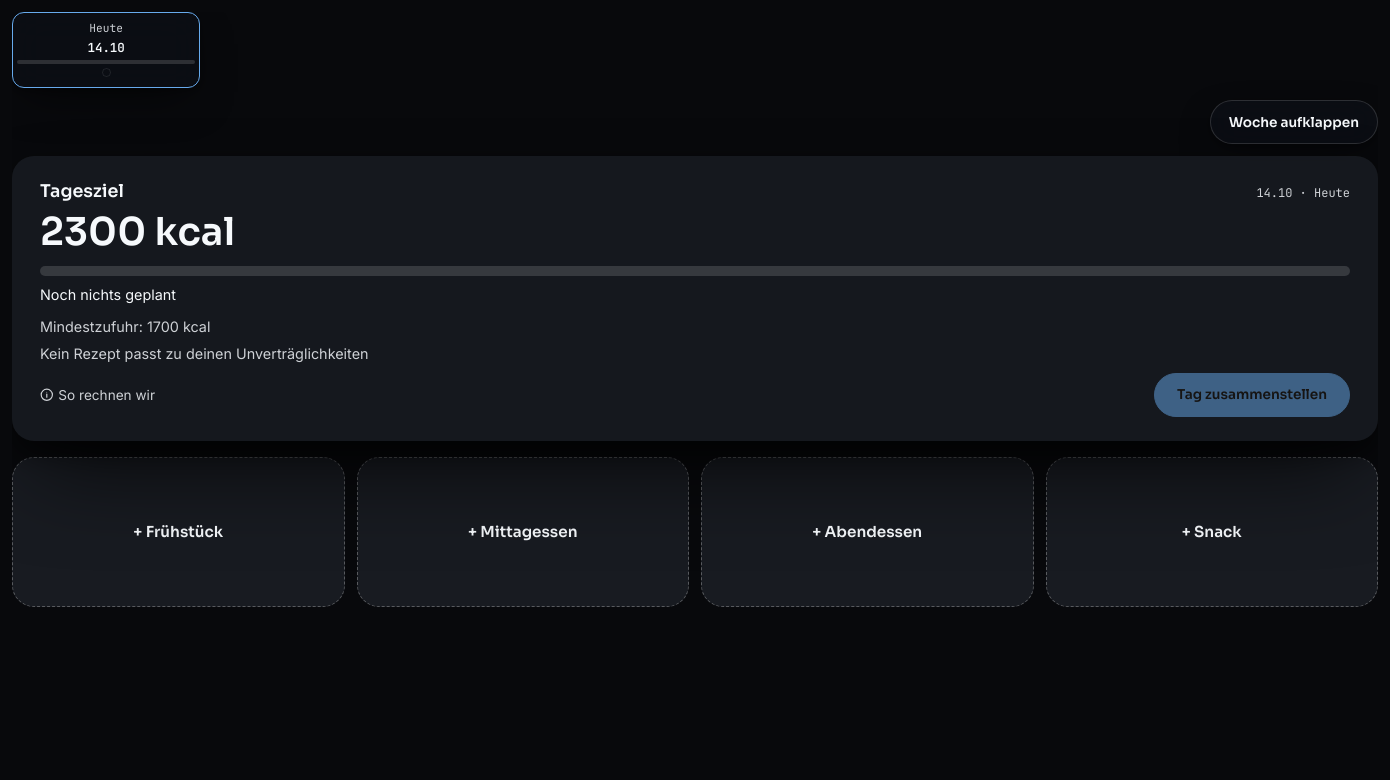
WeekView — wenige oder keine Kandidaten › kein Rezept passt zu den Unverträglichkeiten: Hinweis, Knopf gesperrt, kein Absturz
Expected: the text "Kein Rezept passt zu deinen Unverträglichkeiten" is shown, [40,345,368,362]
Expected: the button "Tag zusammenstellen" is disabled, [1154,373,1350,417]
Click the button with aria-label "Frühstück: Rezept wählen". click: click(178, 532)
box: [12,457,344,607]
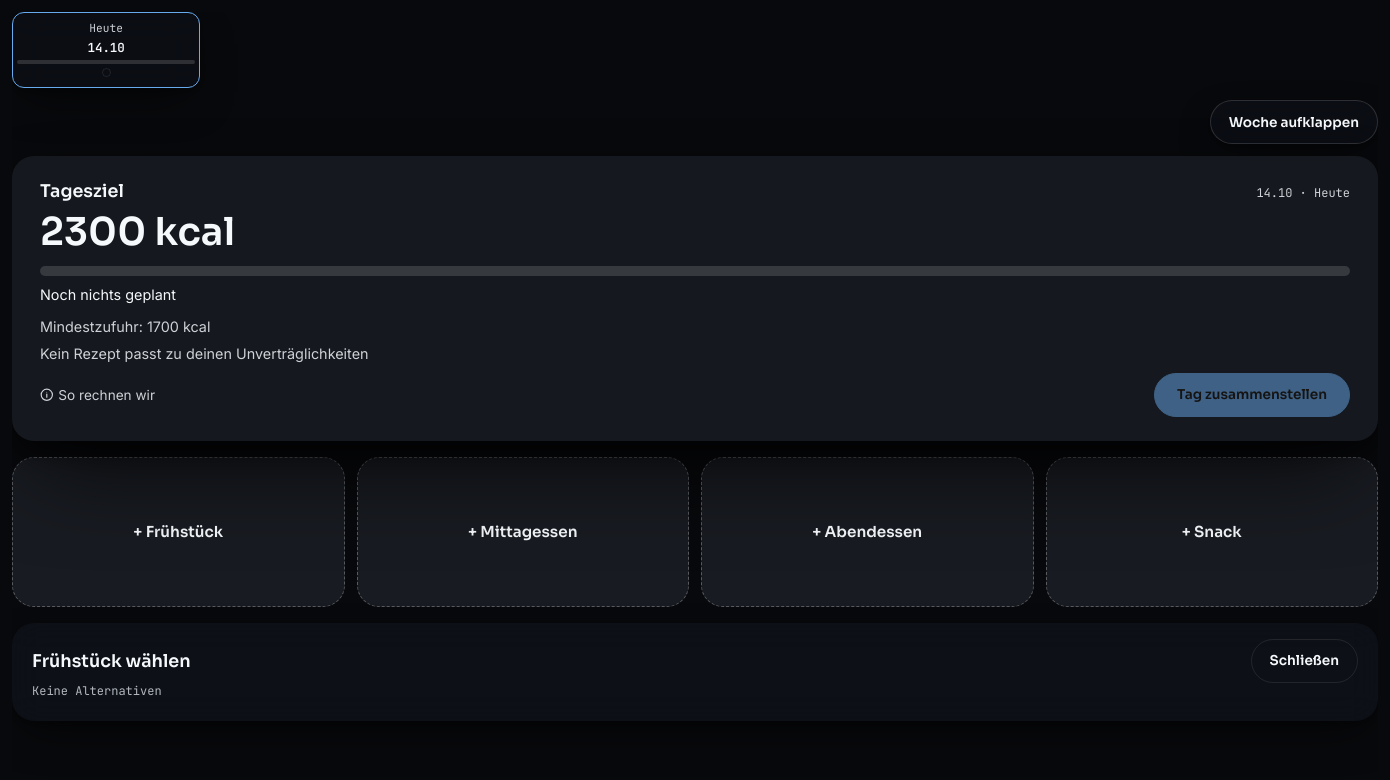
Now the text "Keine Alternativen" is shown, box [32,683,162,699]
